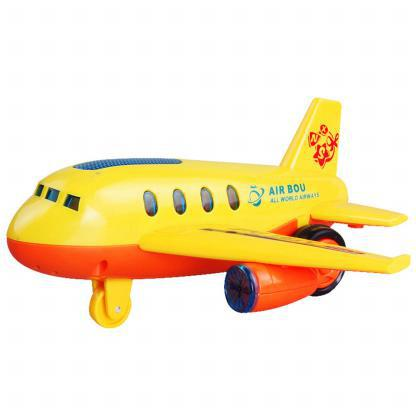CIV_Plane: (4, 94, 415, 332)
